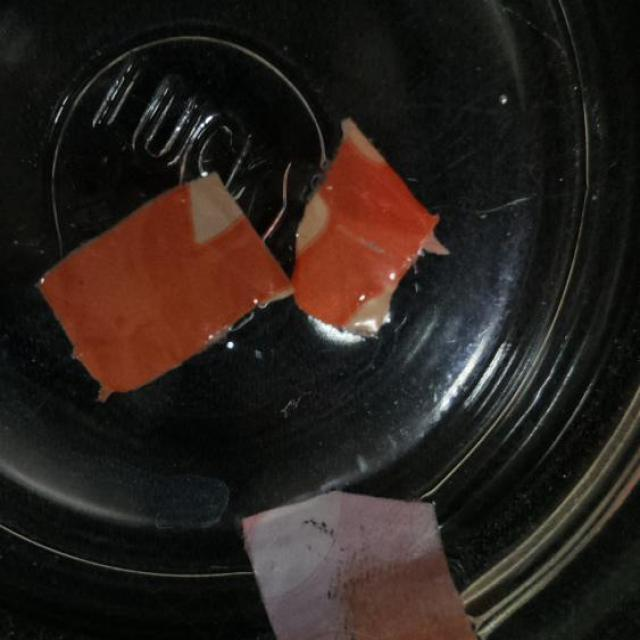fiber: (34, 170, 291, 404), (224, 485, 491, 639), (294, 93, 449, 352)
